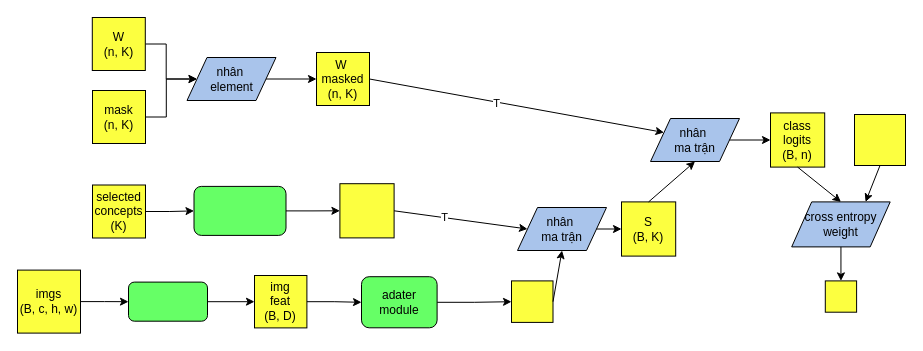
Image size: 923x351. Some labels were removed from this diagram. The shapes that lost their labels are listed below. From the top down, each one's box as (x1, y1, x2, y2) in pixels, then its label:
(854, 114, 906, 166): label (B)
(193, 185, 286, 235): text encoder
(339, 183, 394, 238): concept feat (K, D)
(128, 281, 208, 321): image encoder
(510, 280, 553, 322): img embed (B, D)
(824, 280, 857, 312): loss
